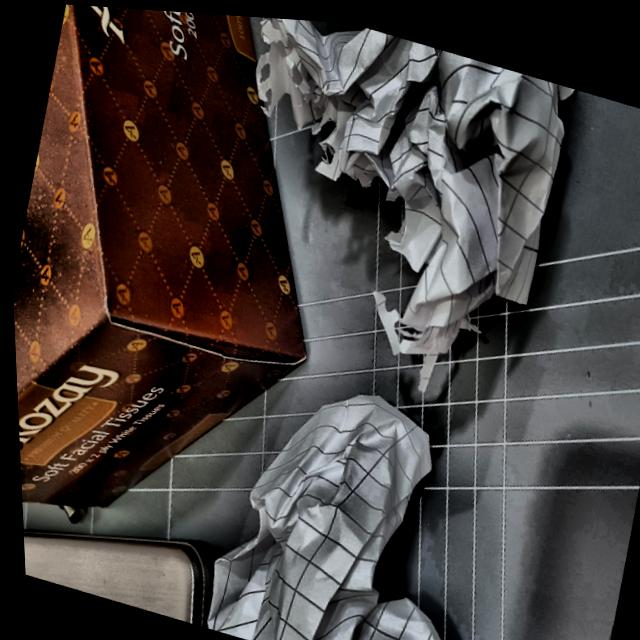paper: (162, 8, 623, 394), (175, 355, 568, 640)
